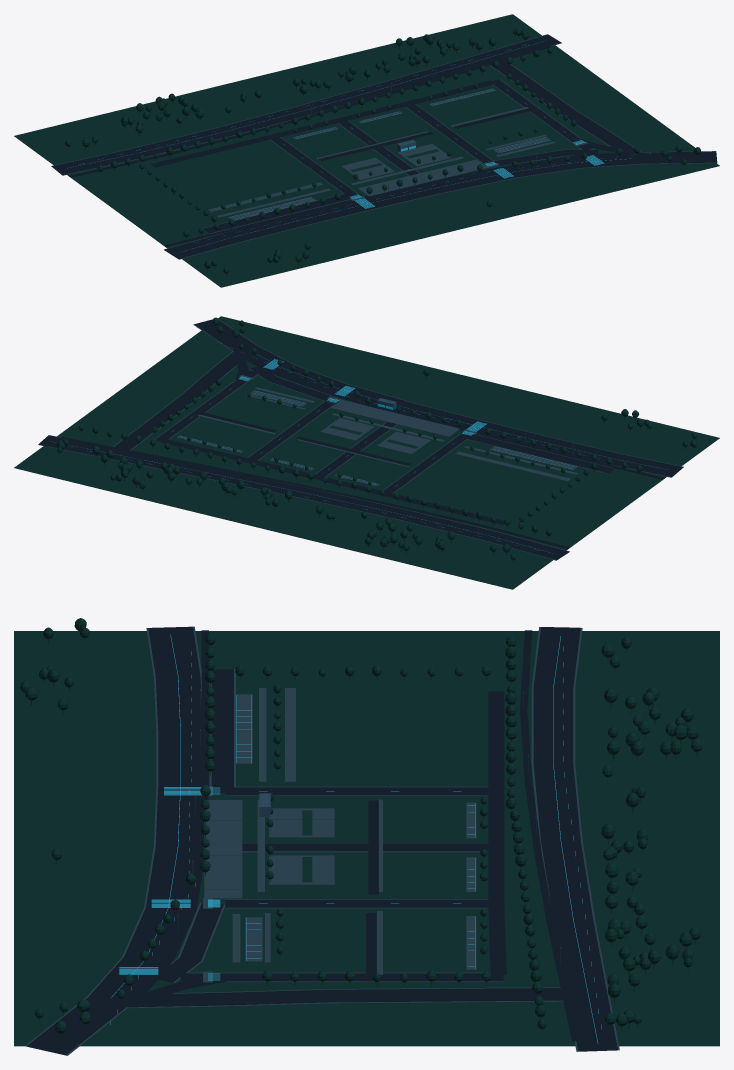
File: site.glb
3 views of the same model, one above another, from view 1: azimuth 30°, elevation 25°; view 2: azimuth 150°, elevation 25°; view 3: azimuth 270°, elevation 25° (orthographic). The views are drawn at different scales.
Visible parts, largest first — view 1: Campus_Site_Ground_Grass, Campus_Site_PublicRoads_PublicRoad, Campus_Site_InternalRoads_Road, Campus_Site_Landscape_Tree, Campus_Site_Paving_Paving, Campus_Site_Paving_Plaza, Campus_Site_PublicRoads_Paving, Campus_Site_PublicRoads_Curb, Campus_Site_Landscape_TreeLight, Campus_Site_InternalRoads_Curb, Campus_Site_RoadMarkings_LaneWhite, Campus_Site_Landscape_Concrete; view 2: Campus_Site_Ground_Grass, Campus_Site_PublicRoads_PublicRoad, Campus_Site_InternalRoads_Road, Campus_Site_Landscape_Tree, Campus_Site_Paving_Paving, Campus_Site_PublicRoads_Paving, Campus_Site_Paving_Plaza, Campus_Site_PublicRoads_Curb, Campus_Site_Landscape_TreeLight, Campus_Site_InternalRoads_Curb, Campus_Site_RoadMarkings_LaneWhite, Campus_Site_Landscape_Concrete; view 3: Campus_Site_Ground_Grass, Campus_Site_PublicRoads_PublicRoad, Campus_Site_InternalRoads_Road, Campus_Site_Landscape_Tree, Campus_Site_Paving_Paving, Campus_Site_Paving_Plaza, Campus_Site_PublicRoads_Paving, Campus_Site_PublicRoads_Curb, Campus_Site_InternalRoads_Curb, Campus_Site_Landscape_TreeLight, Campus_Site_RoadMarkings_LaneWhite, Campus_Site_RoadMarkings_LaneYellow (+1 smaller).
Boxes of the visible parts, left/top/right/bottom form: Campus_Site_Ground_Grass: left=14, top=14, right=719, bottom=287; Campus_Site_PublicRoads_PublicRoad: left=52, top=34, right=717, bottom=258; Campus_Site_InternalRoads_Road: left=151, top=79, right=629, bottom=233; Campus_Site_Landscape_Tree: left=82, top=27, right=701, bottom=268; Campus_Site_Paving_Paving: left=208, top=88, right=588, bottom=220; Campus_Site_Paving_Plaza: left=341, top=144, right=487, bottom=196; Campus_Site_PublicRoads_Paving: left=69, top=45, right=634, bottom=246; Campus_Site_PublicRoads_Curb: left=51, top=34, right=716, bottom=259; Campus_Site_Landscape_TreeLight: left=65, top=38, right=568, bottom=273; Campus_Site_InternalRoads_Curb: left=203, top=79, right=597, bottom=233; Campus_Site_RoadMarkings_LaneWhite: left=80, top=44, right=650, bottom=219; Campus_Site_Landscape_Concrete: left=68, top=35, right=697, bottom=276; Campus_Site_Ground_Grass: left=14, top=316, right=719, bottom=589; Campus_Site_PublicRoads_PublicRoad: left=39, top=319, right=683, bottom=559; Campus_Site_InternalRoads_Road: left=155, top=356, right=614, bottom=524; Campus_Site_Landscape_Tree: left=56, top=317, right=696, bottom=552; Campus_Site_Paving_Paving: left=176, top=375, right=578, bottom=486; Campus_Site_PublicRoads_Paving: left=61, top=353, right=664, bottom=548; Campus_Site_Paving_Plaza: left=320, top=400, right=459, bottom=454; Campus_Site_PublicRoads_Curb: left=38, top=319, right=683, bottom=560; Campus_Site_Landscape_TreeLight: left=107, top=385, right=697, bottom=560; Campus_Site_InternalRoads_Curb: left=154, top=368, right=615, bottom=493; Campus_Site_RoadMarkings_LaneWhite: left=90, top=348, right=566, bottom=550; Campus_Site_Landscape_Concrete: left=59, top=326, right=694, bottom=562; Campus_Site_Ground_Grass: left=14, top=631, right=719, bottom=1046; Campus_Site_PublicRoads_PublicRoad: left=27, top=626, right=617, bottom=1054; Campus_Site_InternalRoads_Road: left=133, top=669, right=506, bottom=1001; Campus_Site_Landscape_Tree: left=20, top=618, right=702, bottom=1034; Campus_Site_Paving_Paving: left=203, top=688, right=476, bottom=982; Campus_Site_Paving_Plaza: left=204, top=800, right=334, bottom=898; Campus_Site_PublicRoads_Paving: left=130, top=630, right=579, bottom=1041; Campus_Site_PublicRoads_Curb: left=25, top=626, right=619, bottom=1055; Campus_Site_InternalRoads_Curb: left=158, top=669, right=503, bottom=983; Campus_Site_Landscape_TreeLight: left=39, top=627, right=700, bottom=1005; Campus_Site_RoadMarkings_LaneWhite: left=110, top=646, right=601, bottom=1029; Campus_Site_RoadMarkings_LaneYellow: left=111, top=634, right=598, bottom=1043.
Size of the model in its own units: 408 by 20.92 by 284.
